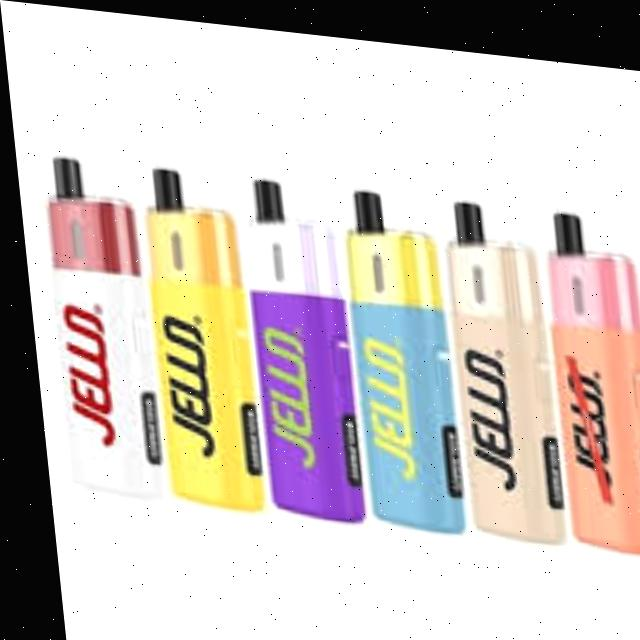vape: (34, 150, 160, 500), (434, 189, 560, 537), (135, 163, 261, 509), (333, 179, 455, 525), (236, 171, 356, 517), (534, 195, 640, 545)
